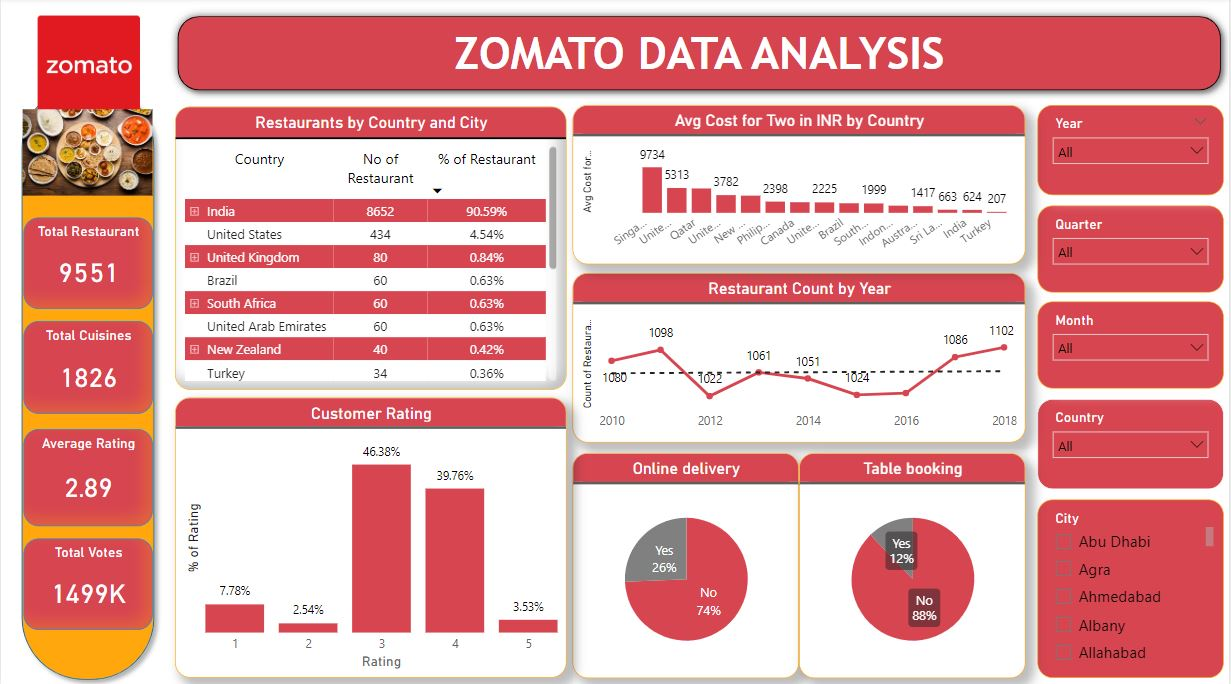

This screenshot's page, from the dashboard's own definition file:
{"tool":"powerbi","page":{"name":"Dashboard","canvas":[1280,720],"ordinal":0},"visuals":[{"type":"slicer","fields":{"Values":["Zomato_D.Country"]},"box":[1080,418.9,193.8,93.8],"z":0},{"type":"slicer","fields":{"Values":["Zomato_D.City"]},"box":[1080,523.6,193.8,186],"z":1000},{"type":"shape","box":[175.1,10.9,1105,95.3],"z":2000},{"type":"shape","box":[12.5,82.8,156.3,637.7],"z":3000},{"type":"card","title":"Total Restaurant","fields":{"Values":["CountNonNull(Zomato_D.RestaurantID)"]},"box":[23.4,229.8,134.4,95.3],"z":4000},{"type":"card","title":"Total Cuisines","fields":{"Values":["Count(Zomato_D.Cuisines)"]},"box":[23.4,337.6,134.4,96.9],"z":5000},{"type":"card","title":"Average Rating","fields":{"Values":["Avg(Zomato_D.Rating)"]},"box":[23.4,450.1,134.4,101.6],"z":6000},{"type":"card","title":"Total Votes","fields":{"Values":["Sum(Zomato_D.Votes)"]},"box":[23.4,564.2,134.4,95.3],"z":7000},{"type":"image","box":[32.8,0,117.2,145.4],"z":8000},{"type":"image","box":[17.2,106.3,145.4,111],"z":9000},{"type":"lineChart","title":"Restaurant Count by Year","fields":{"Y":["CountNonNull(Zomato_D.RestaurantID)"],"Category":["Zomato_D.Opening_Date.Variation.Date Hierarchy.Year","Zomato_D.Opening_Date.Variation.Date Hierarchy.Quarter","Zomato_D.Opening_Date.Variation.Date Hierarchy.Month","Zomato_D.Opening_Date.Variation.Date Hierarchy.Day"]},"box":[595.5,287.6,472,176.6],"z":10000},{"type":"pieChart","title":"Online delivery","fields":{"Category":["Zomato_D.Has_Online_delivery"],"Y":["CountNonNull(Zomato_D.RestaurantID)"]},"box":[595.5,475.1,236,234.4],"z":11000},{"type":"pieChart","title":"Table booking","fields":{"Category":["Zomato_D.Has_Table_booking"],"Y":["CountNonNull(Zomato_D.RestaurantID)"]},"box":[831.5,475.1,236,234.4],"z":12000},{"type":"columnChart","title":"Customer Rating","fields":{"Category":["Zomato_D.Rating_bins"],"Y":["Divide(Sum(Zomato_D.Rating), ScopedEval(Sum(Zomato_D.Rating), []))"]},"box":[181.3,417.3,407.9,292.3],"z":13000},{"type":"slicer","fields":{"Values":["Zomato_D.Quarter"]},"box":[1080,217.3,193.8,90.7],"z":14000},{"type":"slicer","fields":{"Values":["Zomato_D.monthfullname"]},"box":[1080,317.3,193.8,90.7],"z":15000},{"type":"slicer","fields":{"Values":["Zomato_D.Year"]},"box":[1080,112.5,193.8,93.8],"z":16000},{"type":"pivotTable","title":"Restaurants by Country and City","fields":{"Rows":["Zomato_D.Country","Zomato_D.City"],"Values":["CountNonNull(Zomato_D.RestaurantID)","Divide(CountNonNull(Zomato_D.RestaurantID), ScopedEval(CountNonNull(Zomato_D.RestaurantID), []))"]},"box":[181.3,114.1,407.9,295.4],"z":17000},{"type":"columnChart","title":"Avg Cost for Two in INR by Country","fields":{"Y":["Avg(Zomato_D.Cost_two_INR)"],"Category":["Zomato_D.Country"]},"box":[595.5,112.5,472,165.7],"z":18000}]}

Visuals, with their boxes in screenshot pixels (x1, y1, x2, y2), scaled from the page's 1280x720 canvas onto the 1231x684 screenshot:
slicer - Zomato_D.Country: [1039,398,1225,487]
slicer - Zomato_D.City: [1039,497,1225,674]
shape: [168,10,1230,101]
shape: [12,79,162,683]
"Total Restaurant" card: [23,218,152,309]
"Total Cuisines" card: [23,321,152,413]
"Average Rating" card: [23,428,152,524]
"Total Votes" card: [23,536,152,627]
image: [32,0,144,138]
image: [17,101,156,206]
"Restaurant Count by Year" lineChart: [573,273,1027,441]
"Online delivery" pieChart: [573,451,800,674]
"Table booking" pieChart: [800,451,1027,674]
"Customer Rating" columnChart: [174,396,567,674]
slicer - Zomato_D.Quarter: [1039,206,1225,293]
slicer - Zomato_D.monthfullname: [1039,301,1225,388]
slicer - Zomato_D.Year: [1039,107,1225,196]
"Restaurants by Country and City" pivotTable: [174,108,567,389]
"Avg Cost for Two in INR by Country" columnChart: [573,107,1027,264]
